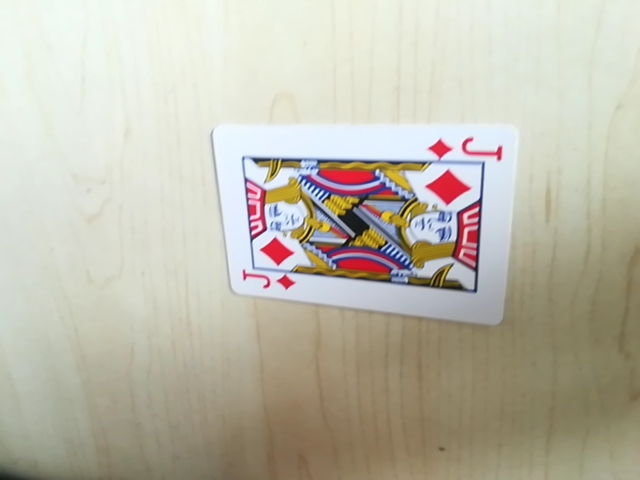fk j: (426, 130, 505, 161), (238, 265, 296, 296)
